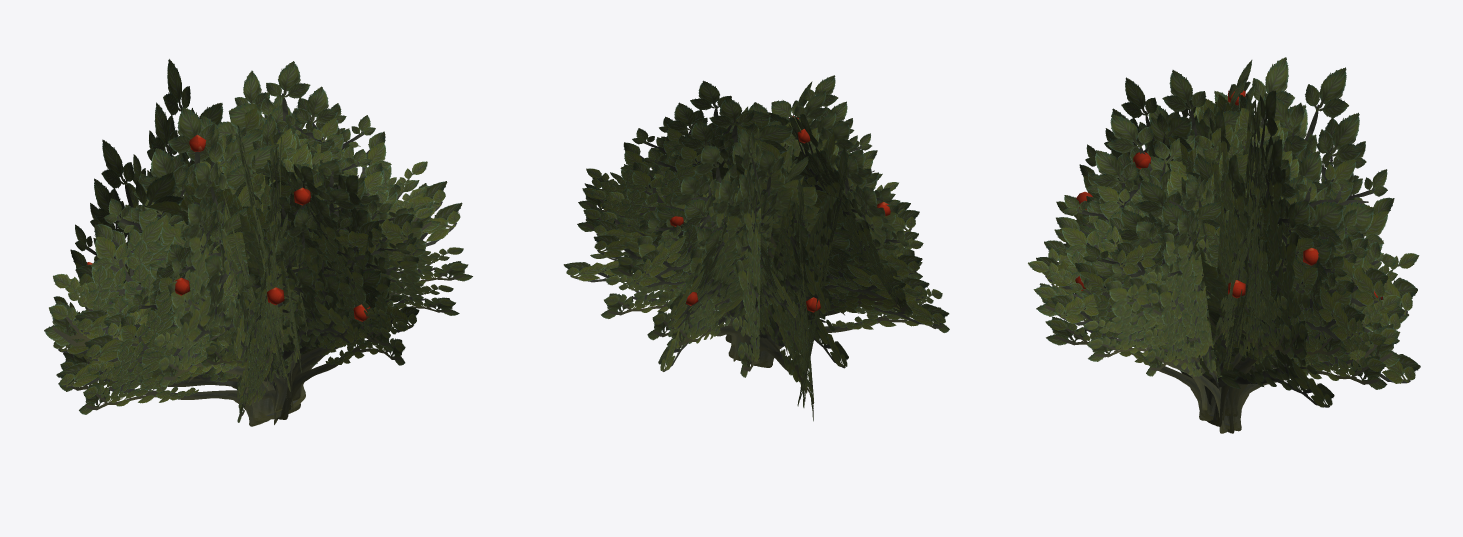
The model's file is shared_bush_berry_03.fbx.
3 renders of one model, left to right at view 1: azimuth 30°, elevation 25°; view 2: azimuth 150°, elevation 25°; view 3: azimuth 270°, elevation 25°, orthographic. The views are drawn at different scales.
Parts seen in each view (by area): view 1: shared_bush_berry_03; view 2: shared_bush_berry_03; view 3: shared_bush_berry_03.
Part boxes in pixels (x1,y1,x2,y2): shared_bush_berry_03: (44,59,472,426); shared_bush_berry_03: (563,75,949,421); shared_bush_berry_03: (1028,57,1420,433).
Size of the model in its own units: 2.71 by 2.55 by 2.12.
